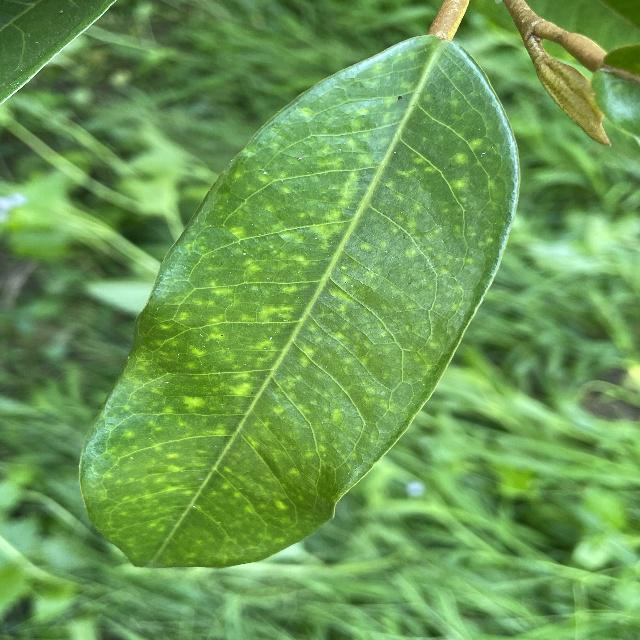Leaf Spot: (71, 25, 530, 580)
